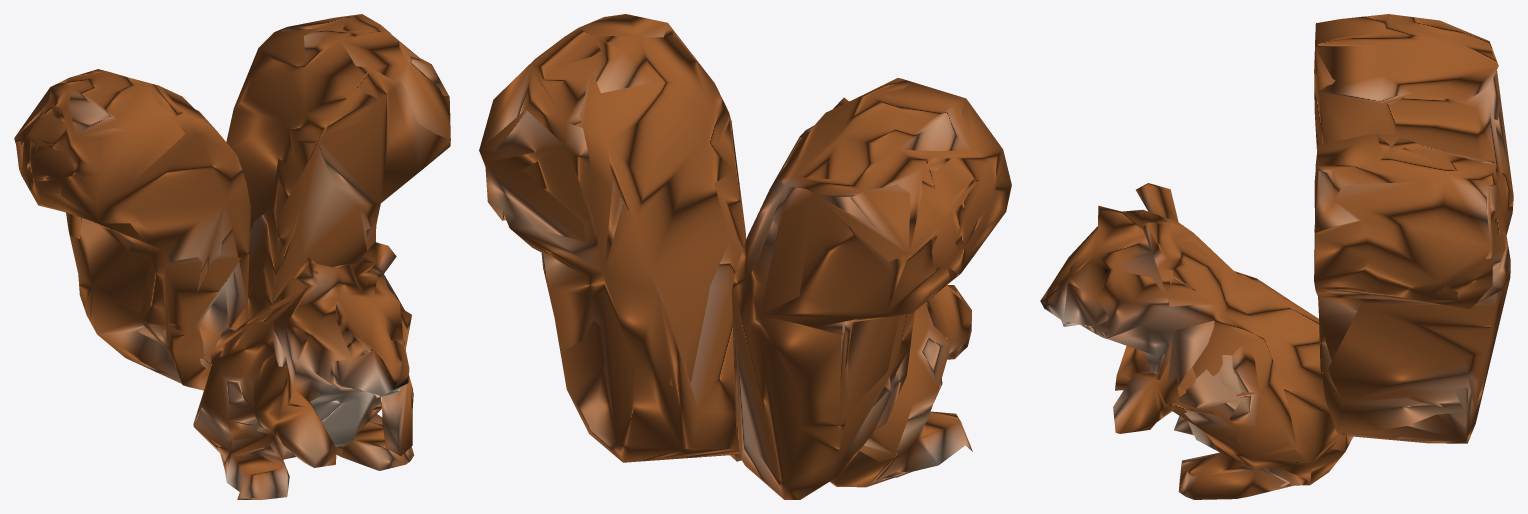
File: gen3d-squirrel-lod0.glb
3 views of the same model, side by side, from view 1: azimuth 30°, elevation 25°; view 2: azimuth 150°, elevation 25°; view 3: azimuth 270°, elevation 25° (orthographic). The views are drawn at different scales.
Visible parts, largest first — view 1: part_0; view 2: part_0; view 3: part_0.
Boxes of the visible parts, x1,y1,x2,y2 form: part_0: (14,14,450,499); part_0: (479,14,1011,499); part_0: (1040,14,1513,499).
Bounding box in the file's own units: 1.1 × 0.9911 × 1.13.
